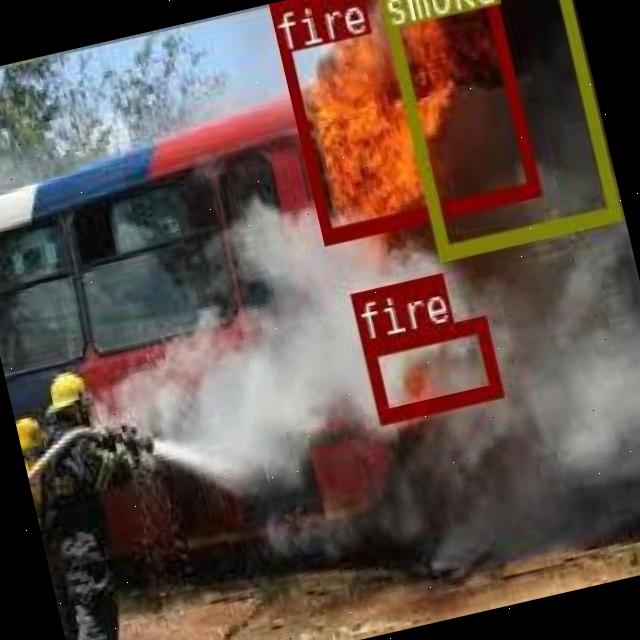fire: (265, 0, 535, 241), (358, 316, 502, 425)
smoke: (373, 0, 618, 259)
